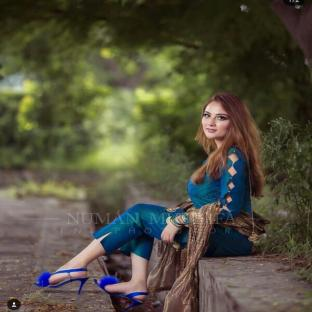Human: (34, 93, 269, 312)
